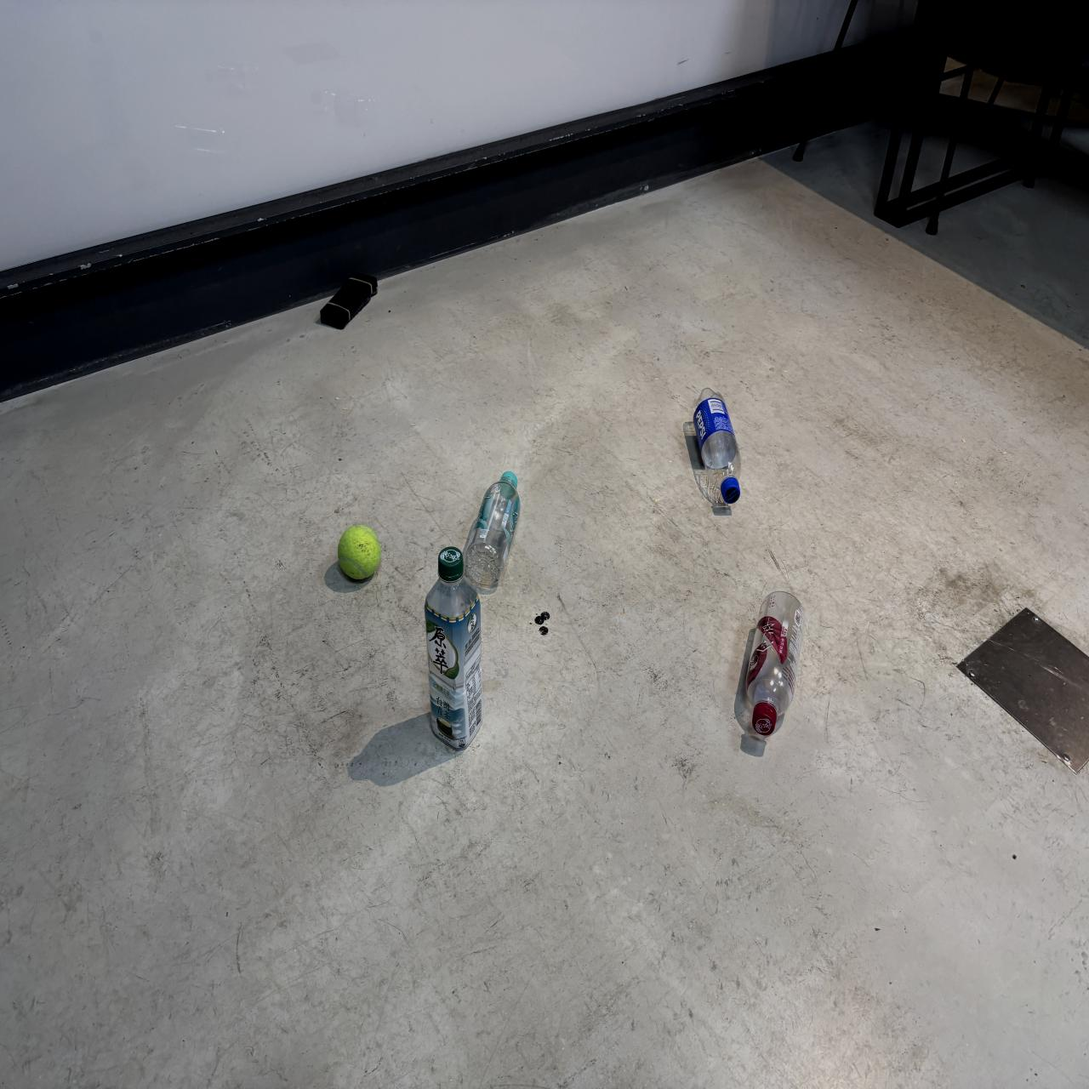plastic-bottle: (425, 547, 482, 749)
tennisball: (338, 526, 380, 579)
